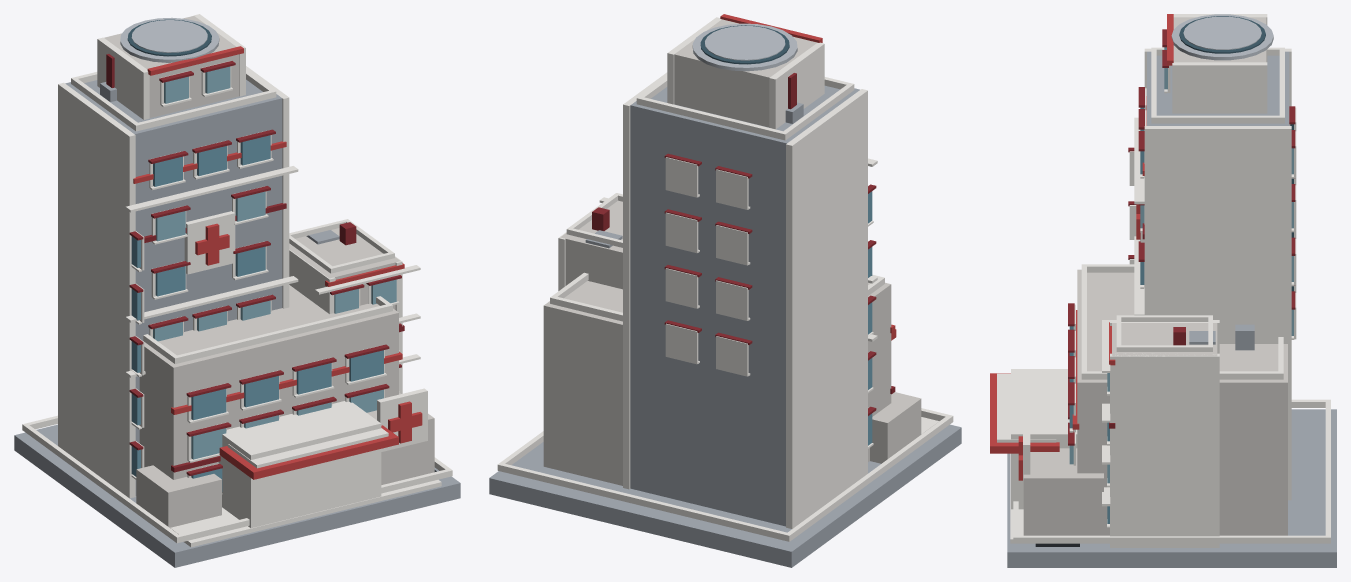
File: hospital-building.glb
The picture shows the model from 3 angles, left to right: view 1: azimuth 30°, elevation 25°; view 2: azimuth 150°, elevation 25°; view 3: azimuth 270°, elevation 25°; orthographic projection. The views are drawn at different scales.
Parts seen in each view (by area): view 1: hospital_building; view 2: hospital_building; view 3: hospital_building.
Boxes of the visible parts, box(x1,y1,x2,y2) form: hospital_building: box(14, 14, 460, 567); hospital_building: box(489, 14, 961, 567); hospital_building: box(990, 14, 1336, 567).
Size of the model in its own units: 11.64 by 16.42 by 11.69.
